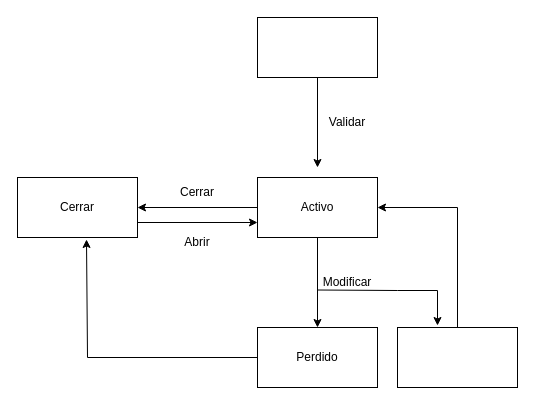
Image size: 535x405. Some labels were removed from this diagram. Each missing label, with the box of its shape:
Borrador: (256, 16, 378, 78)
Ganado: (396, 326, 518, 388)
